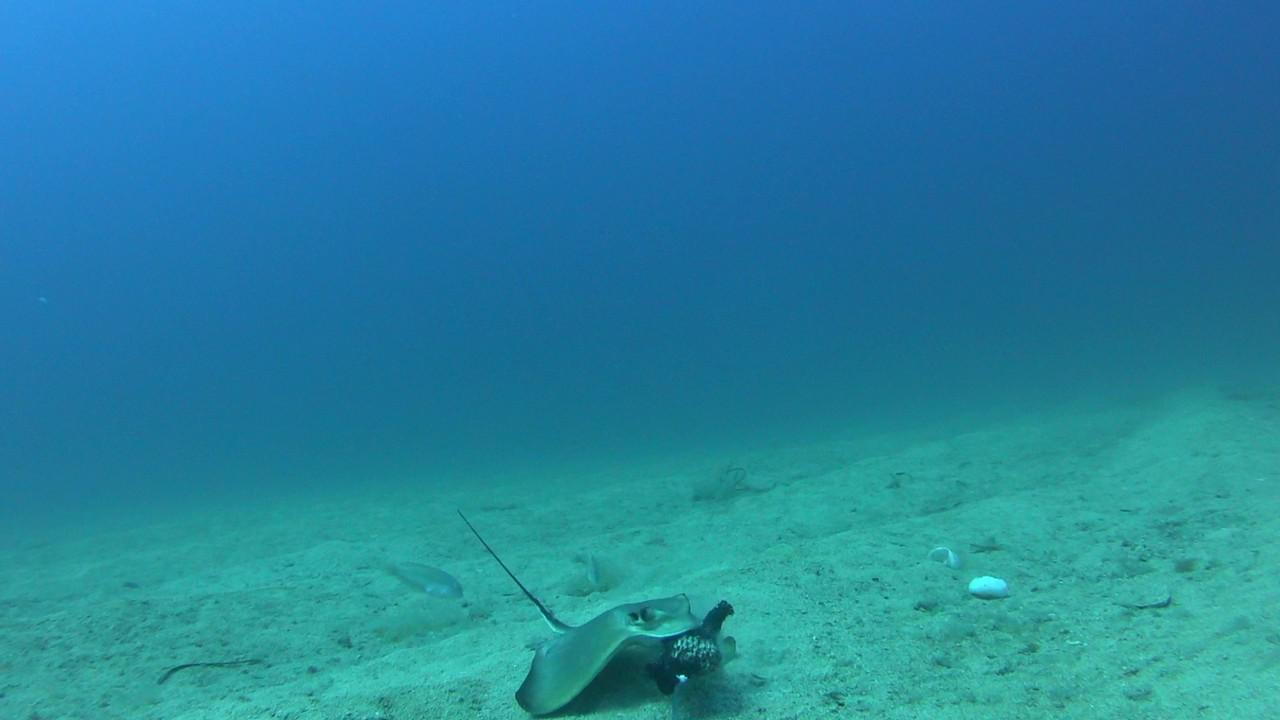myliobatis: (459, 501, 705, 710)
raor: (360, 549, 473, 602)
